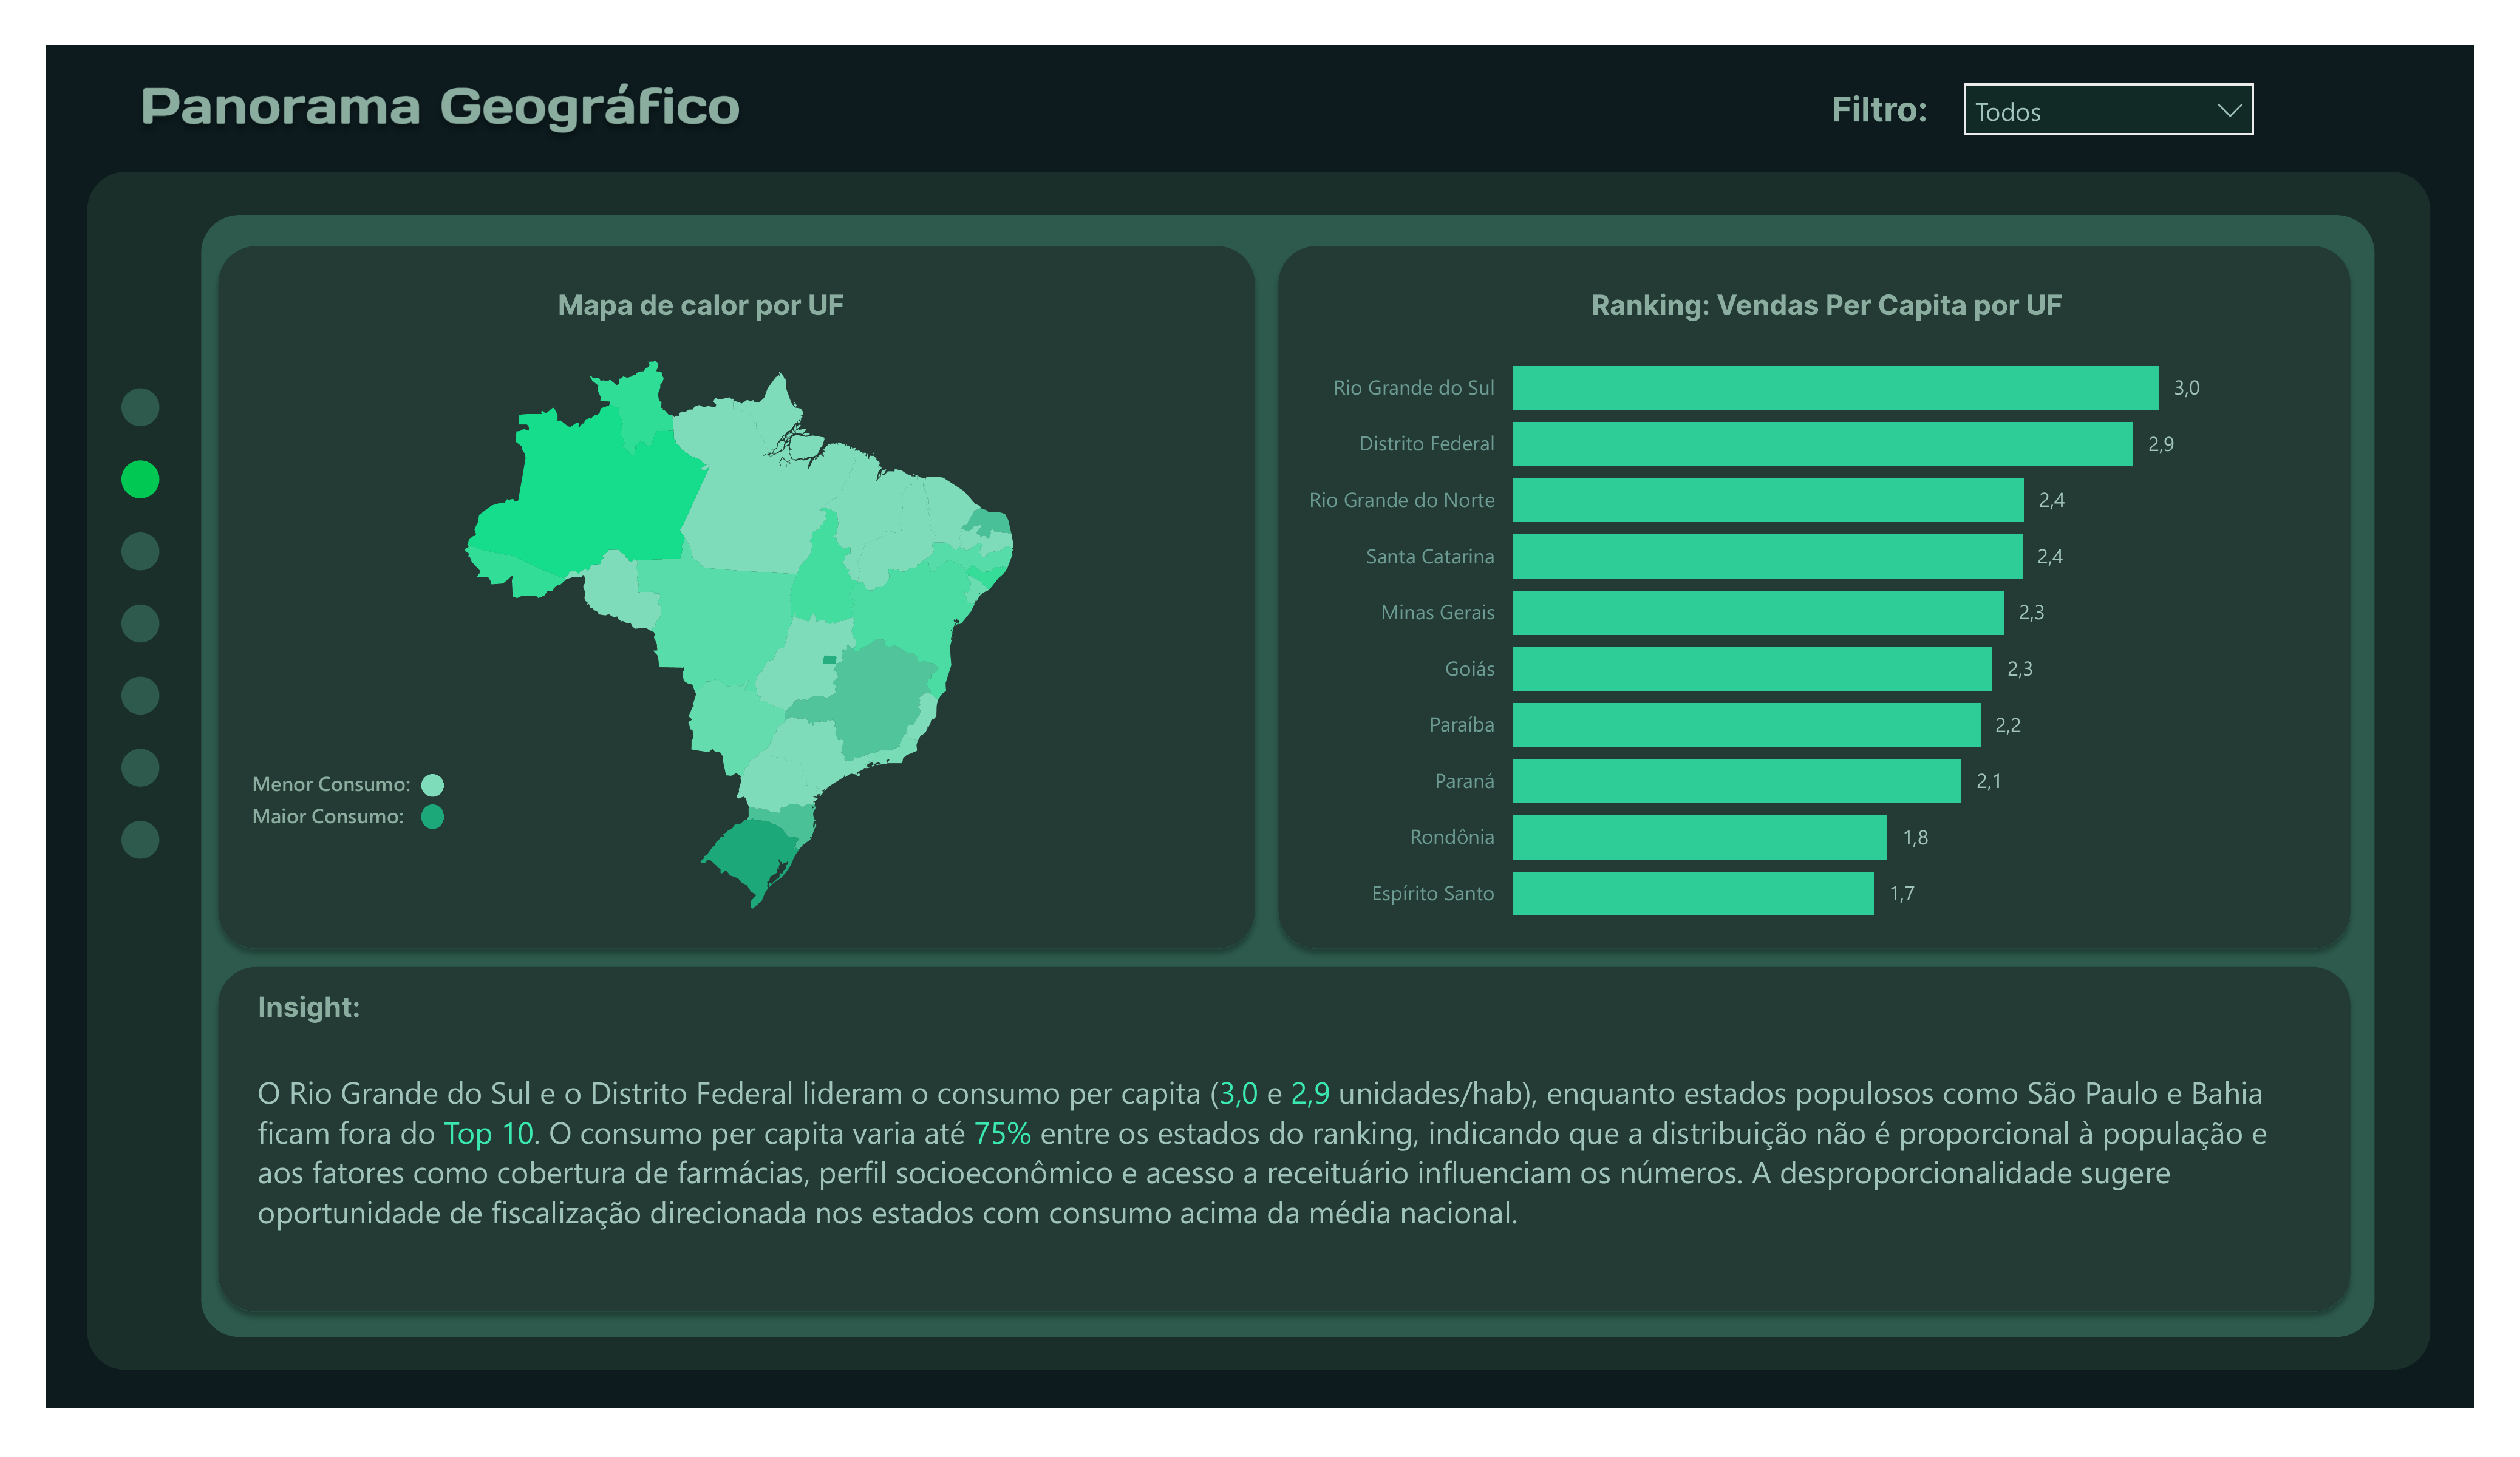

This screenshot's page, from the dashboard's own definition file:
{"tool":"powerbi","page":{"name":"Geográfico","canvas":[1280,720],"ordinal":1},"visuals":[{"type":"shapeMap","fields":{"Category":["População UF.Estado"],"Value":["_Medidas.Consumo Per Capita"]},"box":[91.1,144.6,549.4,331.1],"z":0},{"type":"barChart","fields":{"Category":["População UF.Estado"],"Y":["_Medidas.Consumo Per Capita"]},"box":[652.9,144.3,558.6,331.4],"z":1000},{"type":"textbox","box":[107.1,535.7,1090,101.4],"z":2000},{"type":"textbox","box":[104,373.5,94,45],"z":3000},{"type":"shape","box":[197.9,383.8,12.1,12.1],"z":4000},{"type":"shape","box":[197.9,400.4,12.1,12.1],"z":5000}]}

Visuals, with their boxes on the page's 1280x720 design canvas (x1, y1, x2, y2). These are canvas units, not pixel positions in the 2520x1457 screenshot, which may show the page scaled, cropped or inside an application window:
shapeMap - População UF.Estado x _Medidas.Consumo Per Capita: (left=91, top=145, right=640, bottom=476)
barChart - População UF.Estado x _Medidas.Consumo Per Capita: (left=653, top=144, right=1212, bottom=476)
textbox: (left=107, top=536, right=1197, bottom=637)
textbox: (left=104, top=374, right=198, bottom=418)
shape: (left=198, top=384, right=210, bottom=396)
shape: (left=198, top=400, right=210, bottom=412)
